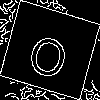O: (25, 25, 73, 81)
